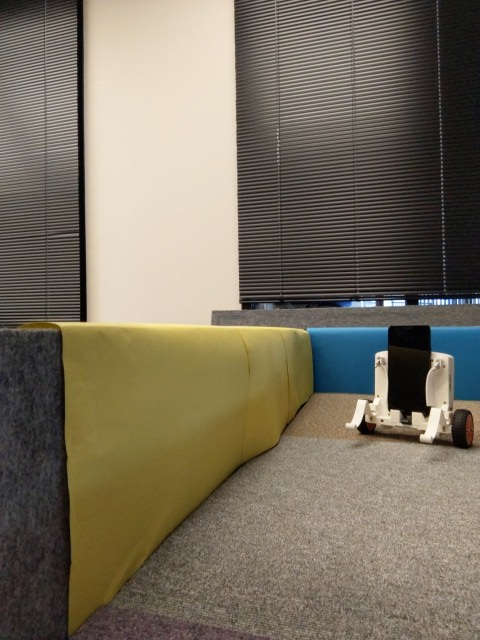f: (341, 315, 480, 452)
